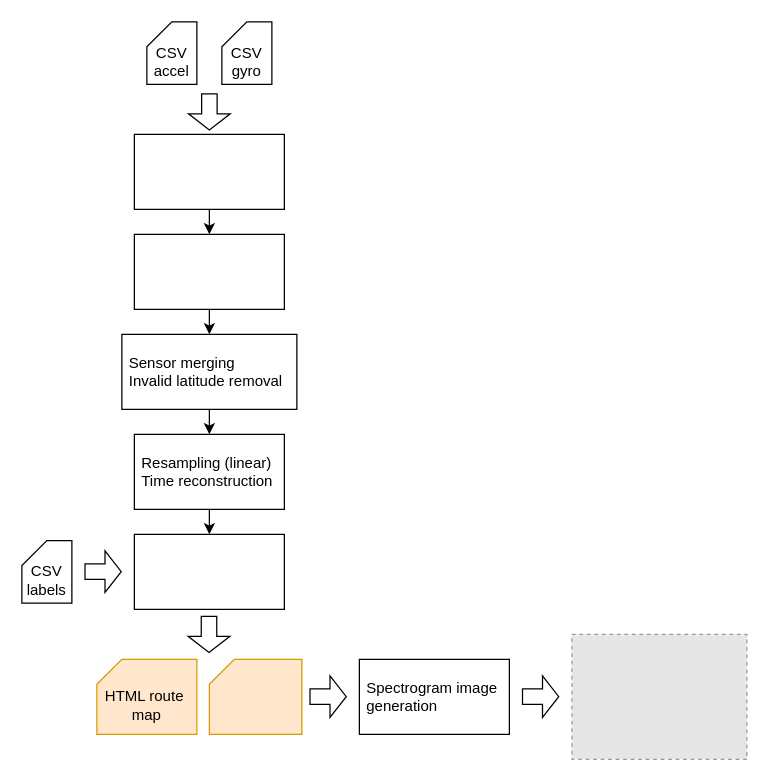
Image size: 769x781. Some labels were removed from this diagram. Grey dashed boxes stand in for pictures. The centre of each missing label's shape, as x and y in pixels:
"Duplicate removal" goes at point (208, 271).
"File reading Time reconstruction" goes at point (208, 171).
"Label matching (closest timestamp)" goes at point (208, 571).
"session CSV merged" goes at point (255, 696).
